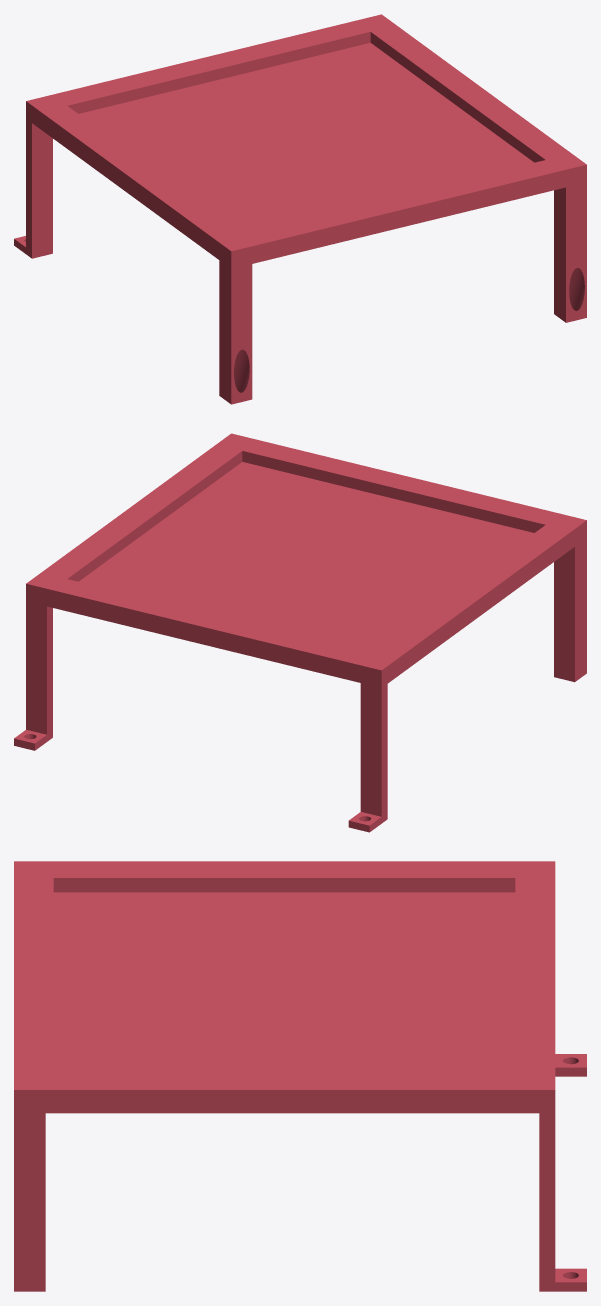
Rendered from sand_plotter.glb.
3 views of the same model, one above another, from view 1: azimuth 30°, elevation 25°; view 2: azimuth 150°, elevation 25°; view 3: azimuth 270°, elevation 25° (orthographic). The views are drawn at different scales.
Visible parts, largest first — view 1: Mesh_Mesh_head_geo.001_lambert2SG.001; view 2: Mesh_Mesh_head_geo.001_lambert2SG.001; view 3: Mesh_Mesh_head_geo.001_lambert2SG.001.
Part boxes in pixels (x1,y1,x2,y2): Mesh_Mesh_head_geo.001_lambert2SG.001: [14, 14, 586, 404]; Mesh_Mesh_head_geo.001_lambert2SG.001: [14, 433, 586, 832]; Mesh_Mesh_head_geo.001_lambert2SG.001: [14, 861, 586, 1291].
Size of the model in its own units: 0.17 by 0.07 by 0.18.
